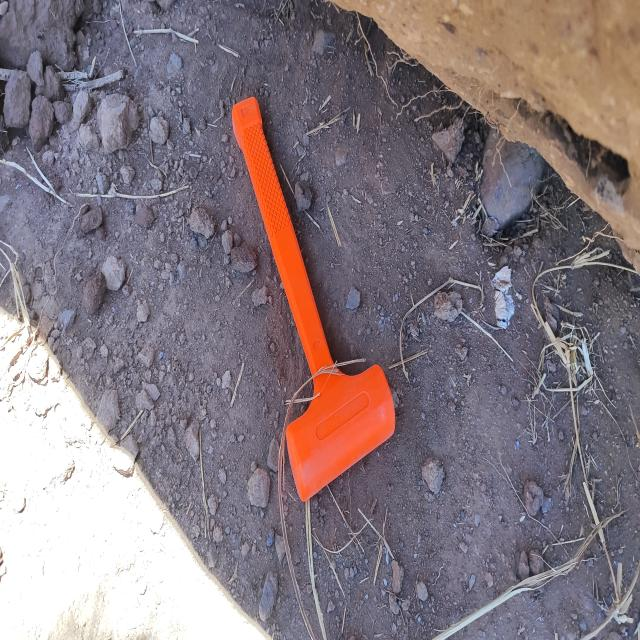Orange_hammer: (230, 94, 397, 503)
